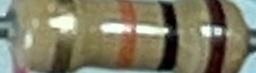Black: (161, 4, 175, 72)
Brown: (208, 2, 223, 73)
Orange: (119, 2, 134, 68)
Side-Gold: (51, 0, 75, 73)
